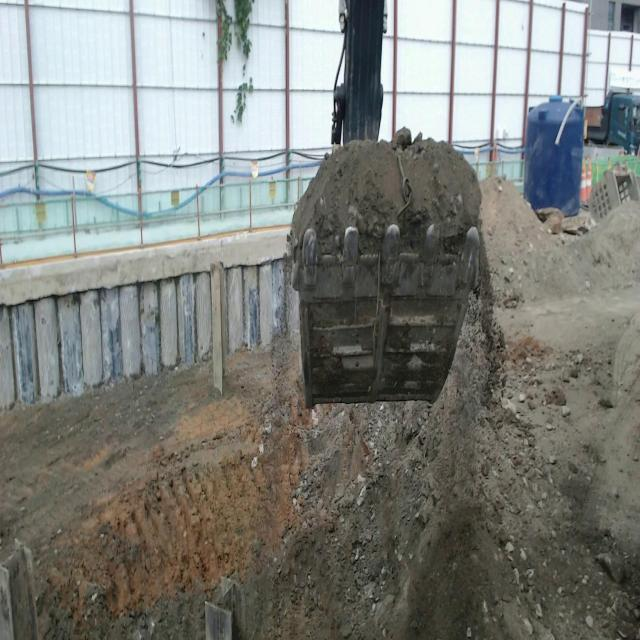red-sand: (0, 180, 640, 639), (288, 128, 481, 267)
